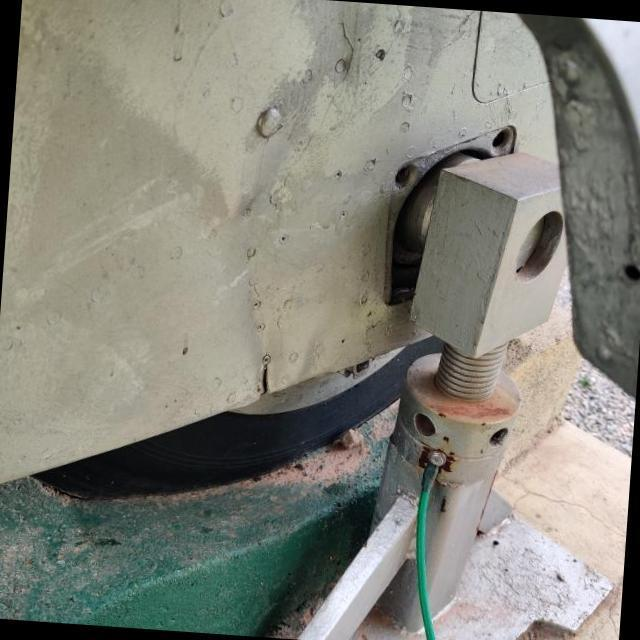Rupture: (246, 345, 283, 405)
